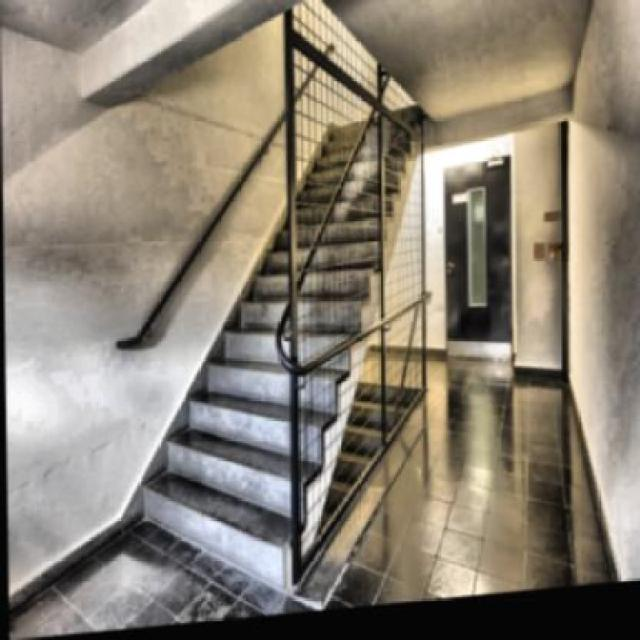stair: (143, 57, 386, 577)
